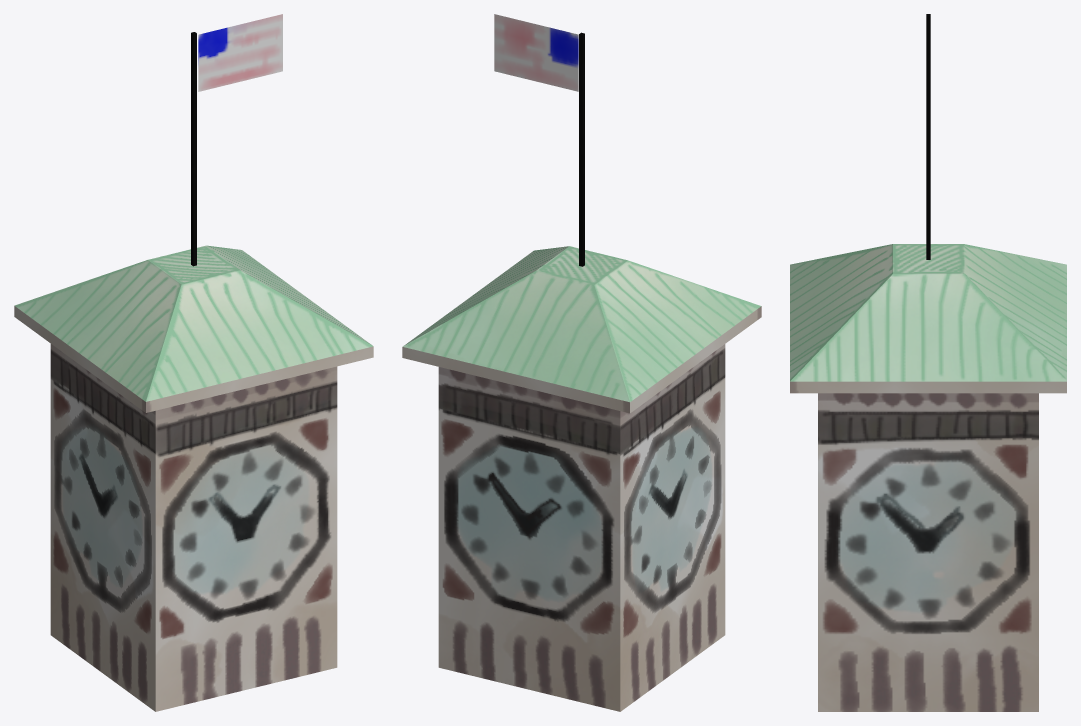
File: clocktower.glb
3 views of the same model, side by side, from view 1: azimuth 30°, elevation 25°; view 2: azimuth 150°, elevation 25°; view 3: azimuth 270°, elevation 25° (orthographic). The views are drawn at different scales.
Visible parts, largest first — view 1: Cube; view 2: Cube; view 3: Cube.
Part boxes in pixels (x1,y1,x2,y2): Cube: (14, 14, 373, 711); Cube: (402, 14, 761, 711); Cube: (790, 14, 1066, 711).
Size of the model in its own units: 2.51 by 6.5 by 2.51.
1 material, 1 textured.
